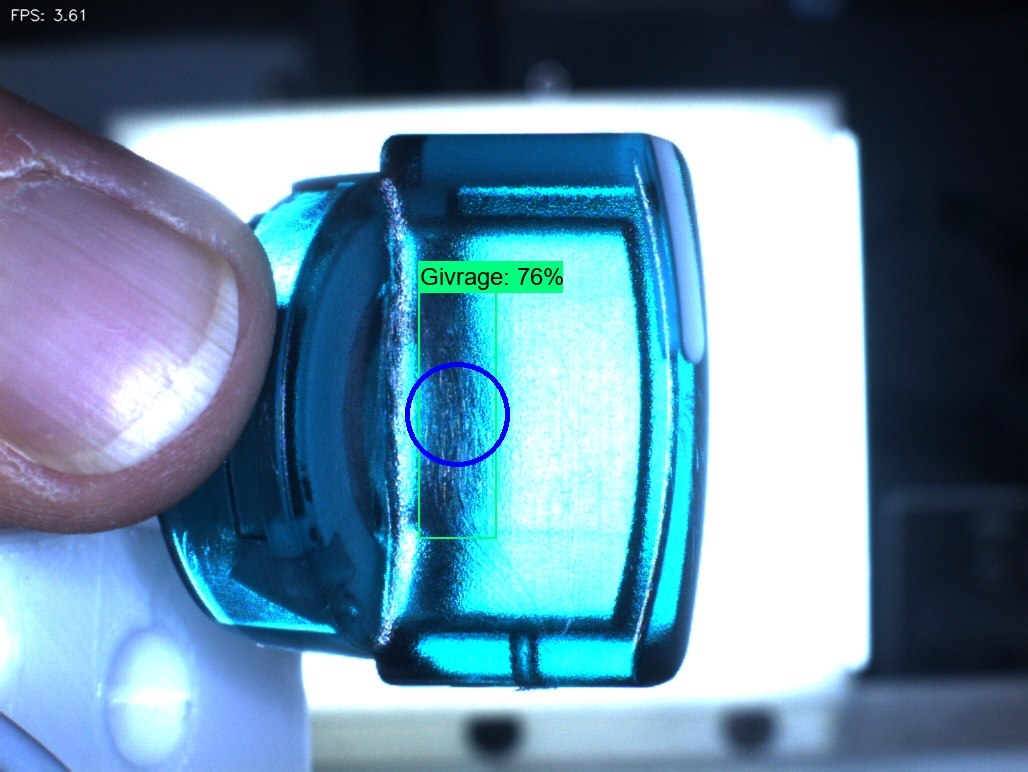Bulle: (490, 616, 564, 709)
